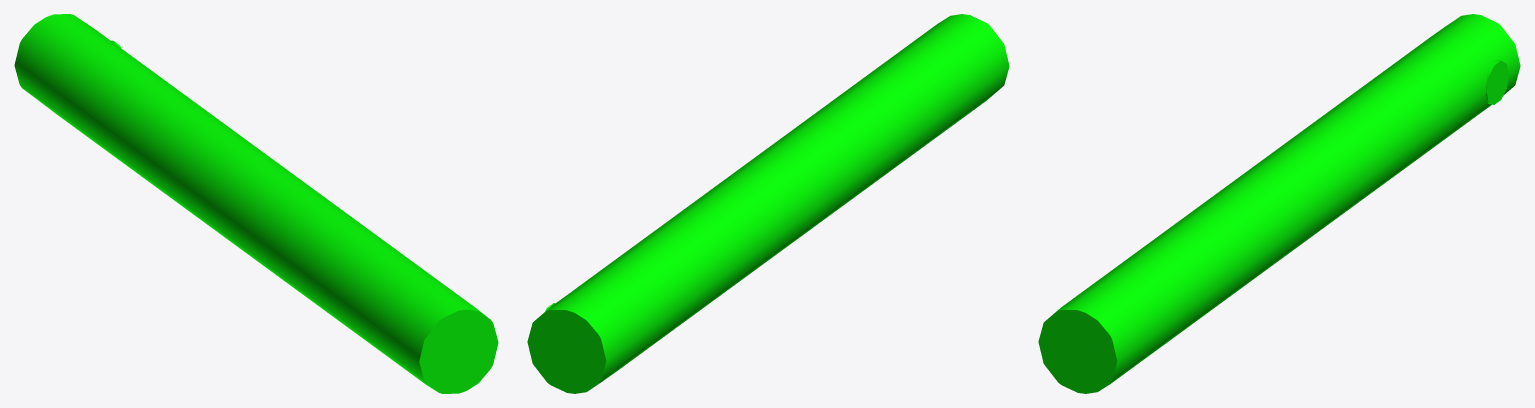
File: pendel_arm_2.obj
3 views of the same model, side by side, from view 1: azimuth 30°, elevation 25°; view 2: azimuth 150°, elevation 25°; view 3: azimuth 330°, elevation 25° (orthographic).
Visible parts, largest first — view 1: 1; view 2: 1; view 3: 1.
Boxes of the visible parts, box(x1,y1,x2,y2) form: 1: box(14, 14, 498, 393); 1: box(527, 14, 1009, 393); 1: box(1038, 14, 1520, 393).
Size of the model in its own units: 30 by 30 by 265.
